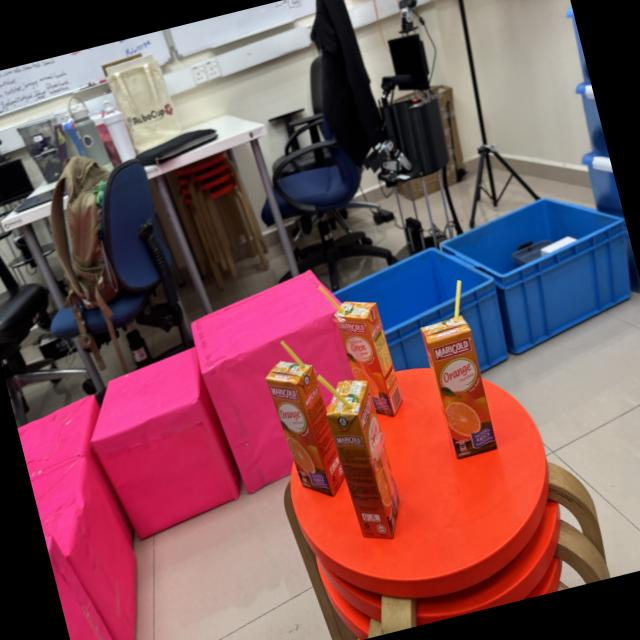drink_carton: (400, 266, 520, 478), (307, 347, 417, 555), (250, 321, 358, 517), (324, 286, 418, 434)
